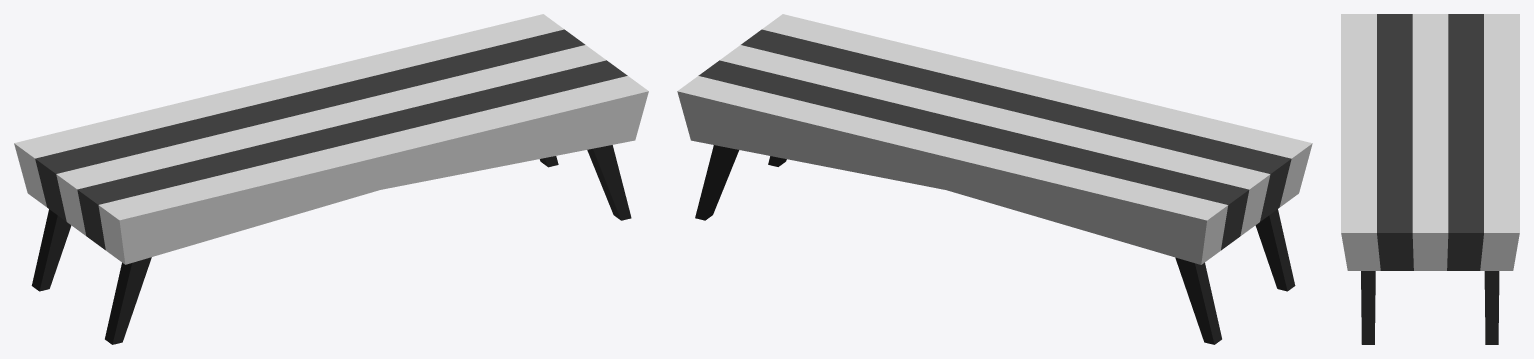
File: ctable_1.glb
3 views of the same model, side by side, from view 1: azimuth 30°, elevation 25°; view 2: azimuth 150°, elevation 25°; view 3: azimuth 270°, elevation 25° (orthographic). The views are drawn at different scales.
Parts seen in each view (by area): view 1: CTable_1; view 2: CTable_1; view 3: CTable_1.
Part boxes in pixels (x1,y1,x2,y2): CTable_1: (14, 14, 648, 344); CTable_1: (677, 14, 1312, 344); CTable_1: (1341, 14, 1519, 344).
Bounding box in the file's own units: 2.17 × 0.5286 × 0.75.
Materials: 1 (1 with a texture image).
